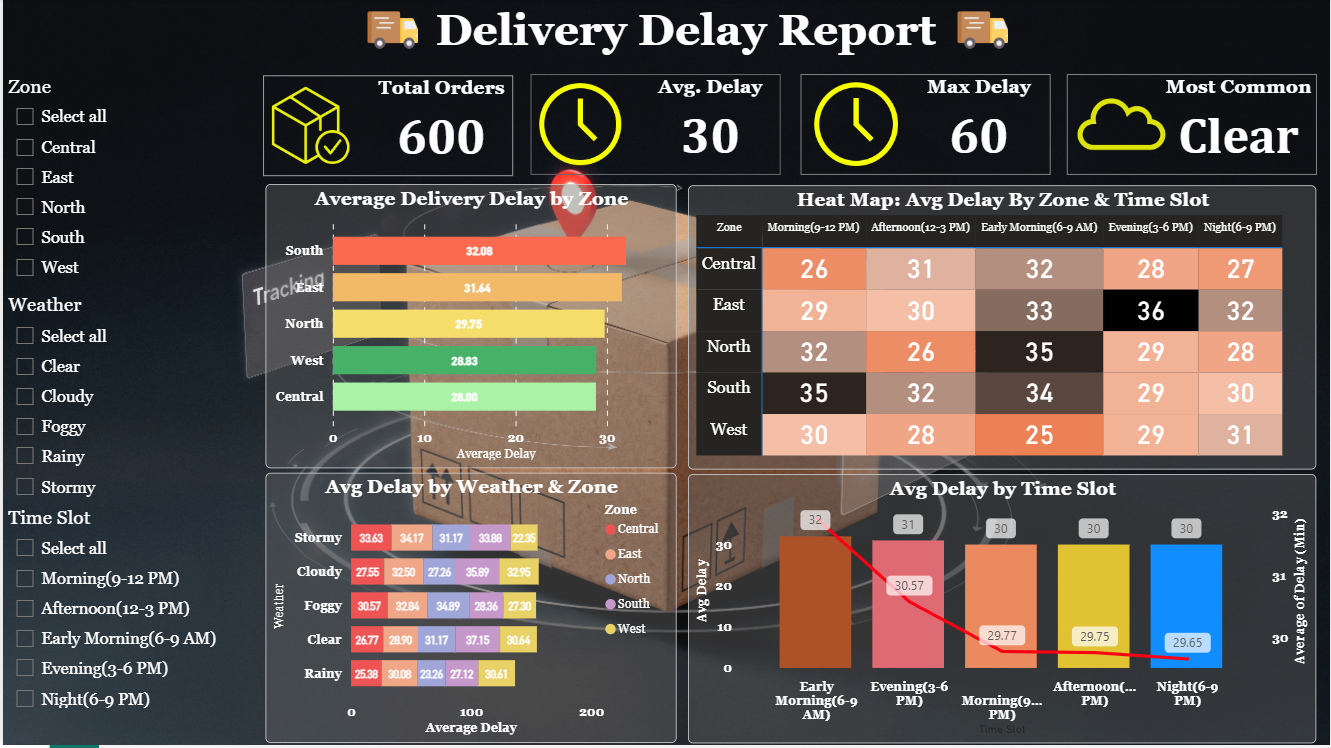

This screenshot's page, from the dashboard's own definition file:
{"tool":"powerbi","page":{"name":"Page 1","canvas":[1280,720],"ordinal":0},"visuals":[{"type":"textbox","box":[0,0,1280.3,63.1],"z":0,"group":"g7"},{"type":"image","box":[882.3,0,74.1,60],"z":0},{"type":"image","box":[234.6,72.7,91.6,97.4],"z":0,"group":"g5"},{"type":"shape","box":[489.9,72.7,241,97.4],"z":0,"group":"g3"},{"type":"shape","box":[747.9,72.7,241,97.4],"z":0,"group":"g4"},{"type":"group","id":"g1","title":"Group 10","box":[1010,72.7,241.5,97.4],"z":0,"group":"g10"},{"type":"shape","box":[1010,72.7,241.5,97.4],"z":0,"group":"g1"},{"type":"card","title":"Max Delay","fields":{"Values":["Max(Delivery_Delay_Dataset.Delay (Min))"]},"box":[868.7,76.8,120.8,89.2],"z":0,"group":"g9"},{"type":"card","title":"Total Orders","fields":{"Values":["Delivery_Delay_Dataset.Total Orders"]},"box":[328.6,82.3,147,87.8],"z":0,"group":"g2"},{"type":"card","title":"Avg. Delay","fields":{"Values":["Delivery_Delay_Dataset.Avg Delay"]},"box":[603.8,82.3,119.4,82.3],"z":0,"group":"g8"},{"type":"slicer","title":"Zone","fields":{"Values":["Delivery_Delay_Dataset.Zone"]},"box":[11.4,287.8,200.3,213.6],"z":0,"group":"g6"},{"type":"image","box":[314.2,0,74.1,60.4],"z":1000,"group":"g7"},{"type":"shape","box":[4.5,72.7,211.3,642.2],"z":1000,"group":"g6"},{"type":"group","id":"g2","title":"Group 1","box":[234.6,72.7,241,97.4],"z":1000,"group":"g5"},{"type":"shape","box":[234.6,72.7,241,97.4],"z":1000,"group":"g2"},{"type":"group","id":"g3","title":"Group 6","box":[489.9,72.7,241,97.4],"z":1000,"group":"g8"},{"type":"group","id":"g4","title":"Group 8","box":[747.9,72.7,241,97.4],"z":1000,"group":"g9"},{"type":"image","box":[1025.1,72.7,105.7,94.7],"z":1000,"group":"g10"},{"type":"card","title":"Most Common","fields":{"Values":["Min(Delivery_Delay_Dataset.Weather)"]},"box":[1125.3,76.8,126.2,89.2],"z":1000,"group":"g1"},{"type":"image","box":[495.4,82.3,115.3,81],"z":1000,"group":"g3"},{"type":"image","box":[767.1,82.3,90.6,81],"z":1000,"group":"g4"},{"type":"clusteredBarChart","title":"Average Delivery Delay by Zone","fields":{"Category":["Delivery_Delay_Dataset.Zone"],"Y":["Avg(Delivery_Delay_Dataset.Delay (Min))"]},"box":[236.6,183.8,318.3,263.8],"z":1000},{"type":"pivotTable","title":"Heat Map:  Avg Delay By Zone & Time Slot ","fields":{"Rows":["Delivery_Delay_Dataset.Zone"],"Columns":["Delivery_Delay_Dataset.Time Slot"],"Values":["Delivery_Delay_Dataset.Avg Delay"]},"box":[583.8,183.8,667.2,263.8],"z":2000},{"type":"slicer","title":"Time Slot","fields":{"Values":["Delivery_Delay_Dataset.Time Slot"]},"box":[10,501.3,200.3,213.6],"z":2000,"group":"g6"},{"type":"slicer","title":"Weather","fields":{"Values":["Delivery_Delay_Dataset.Weather"]},"box":[11.4,77.3,200.3,213.1],"z":3000,"group":"g6"},{"type":"lineClusteredColumnComboChart","title":"Avg Delay  by Time Slot","fields":{"Category":["Delivery_Delay_Dataset.Time Slot"],"Y":["Delivery_Delay_Dataset.Avg Delay"],"Y2":["Avg(Delivery_Delay_Dataset.Delay (Min))"]},"box":[236.6,457.9,657,255.3],"z":3000},{"type":"barChart","title":"Average Delay by Weather & Zone","fields":{"Series":["Delivery_Delay_Dataset.Zone"],"Y":["Avg(Delivery_Delay_Dataset.Delay (Min))"],"Category":["Delivery_Delay_Dataset.Weather"]},"box":[917.4,459.6,333.6,253.6],"z":4000},{"type":"group","id":"g5","title":"Group 2","box":[234.6,72.7,241,97.4],"z":5000},{"type":"group","id":"g6","title":"Group 3","box":[4.5,72.7,211.3,642.2],"z":6000},{"type":"group","id":"g7","title":"Group 5","box":[0,0,1280.3,63.1],"z":7000},{"type":"group","id":"g8","title":"Group 7","box":[489.9,72.7,241,97.4],"z":8000},{"type":"group","id":"g9","title":"Group 9","box":[747.9,72.7,241.5,97.4],"z":9000},{"type":"group","id":"g10","title":"Group 11","box":[1010,72.7,241.5,97.4],"z":10000}]}

Visuals, with their boxes in screenshot pixels (x1, y1, x2, y2), scaled from the page's 1280x720 canvas onto the 1331x748 screenshot:
textbox: l=0, t=0, r=1330, b=66
image: l=917, t=0, r=995, b=62
image: l=244, t=76, r=339, b=177
shape: l=509, t=76, r=760, b=177
shape: l=778, t=76, r=1028, b=177
"Group 10" group: l=1050, t=76, r=1301, b=177
shape: l=1050, t=76, r=1301, b=177
"Max Delay" card: l=903, t=80, r=1029, b=172
"Total Orders" card: l=342, t=86, r=495, b=177
"Avg. Delay" card: l=628, t=86, r=752, b=171
"Zone" slicer: l=12, t=299, r=220, b=521
image: l=327, t=0, r=404, b=63
shape: l=5, t=76, r=224, b=743
"Group 1" group: l=244, t=76, r=495, b=177
shape: l=244, t=76, r=495, b=177
"Group 6" group: l=509, t=76, r=760, b=177
"Group 8" group: l=778, t=76, r=1028, b=177
image: l=1066, t=76, r=1176, b=174
"Most Common" card: l=1170, t=80, r=1301, b=172
image: l=515, t=86, r=635, b=170
image: l=798, t=86, r=892, b=170
"Average Delivery Delay by Zone" clusteredBarChart: l=246, t=191, r=577, b=465
"Heat Map:  Avg Delay By Zone & Time Slot " pivotTable: l=607, t=191, r=1301, b=465
"Time Slot" slicer: l=10, t=521, r=219, b=743
"Weather" slicer: l=12, t=80, r=220, b=302
"Avg Delay  by Time Slot" lineClusteredColumnComboChart: l=246, t=476, r=929, b=741
"Average Delay by Weather & Zone" barChart: l=954, t=477, r=1301, b=741
"Group 2" group: l=244, t=76, r=495, b=177
"Group 3" group: l=5, t=76, r=224, b=743
"Group 5" group: l=0, t=0, r=1330, b=66
"Group 7" group: l=509, t=76, r=760, b=177
"Group 9" group: l=778, t=76, r=1029, b=177
"Group 11" group: l=1050, t=76, r=1301, b=177
